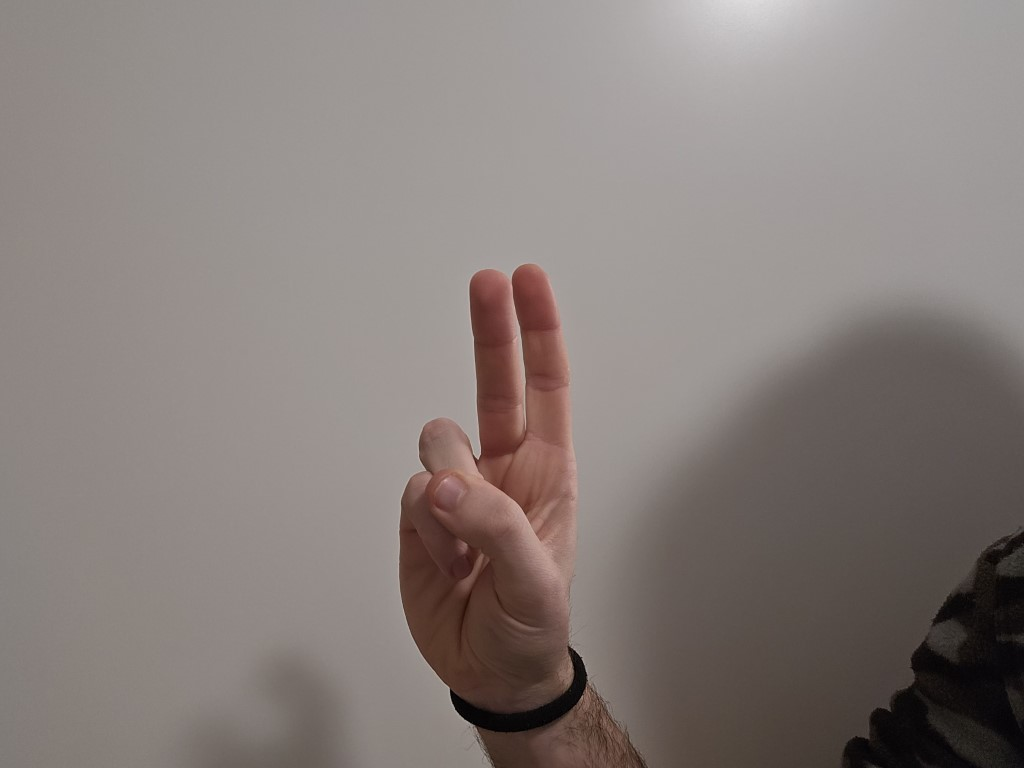r: (330, 263, 610, 675)
